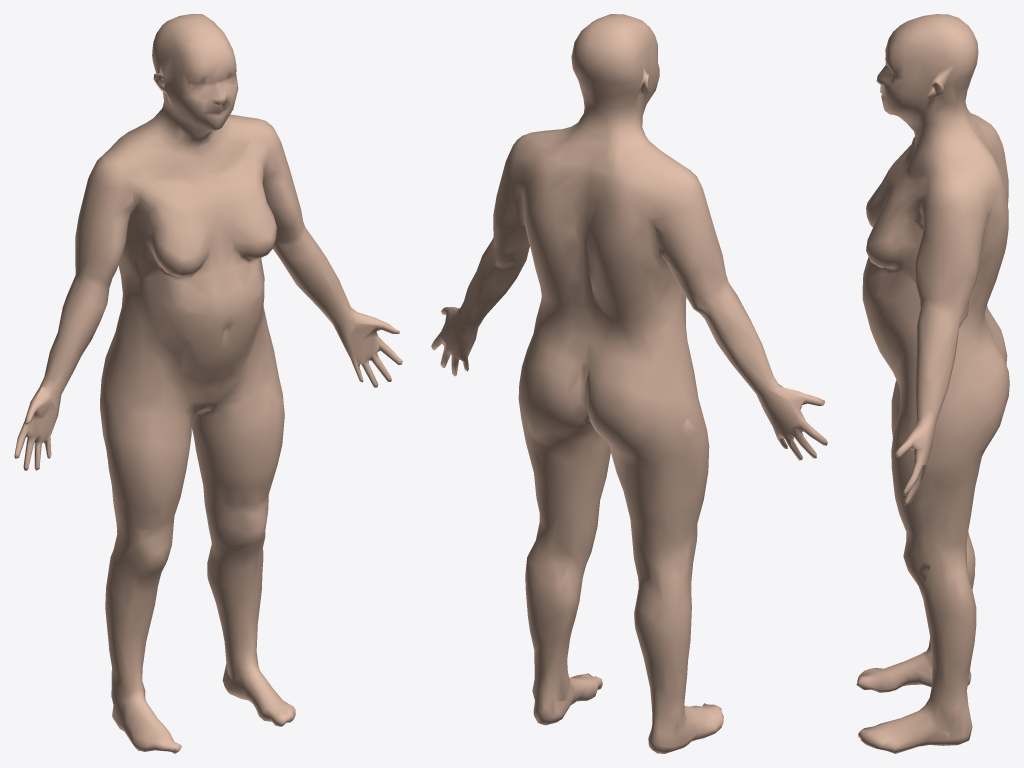
File: adult_female.surface.LOD3.glb
The picture shows the model from 3 angles, left to right: view 1: azimuth 30°, elevation 25°; view 2: azimuth 150°, elevation 25°; view 3: azimuth 270°, elevation 25°; orthographic projection. The views are drawn at different scales.
Parts seen in each view (by area): view 1: ADULT.FEMALE.SURFACE.SKIN; view 2: ADULT.FEMALE.SURFACE.SKIN; view 3: ADULT.FEMALE.SURFACE.SKIN.
Part boxes in pixels (box(x1,y1,x2,y2)): ADULT.FEMALE.SURFACE.SKIN: box(14, 14, 402, 753); ADULT.FEMALE.SURFACE.SKIN: box(431, 14, 827, 753); ADULT.FEMALE.SURFACE.SKIN: box(856, 14, 1009, 753).
Size of the model in its own units: 0.9685 by 1.67 by 0.3304.
